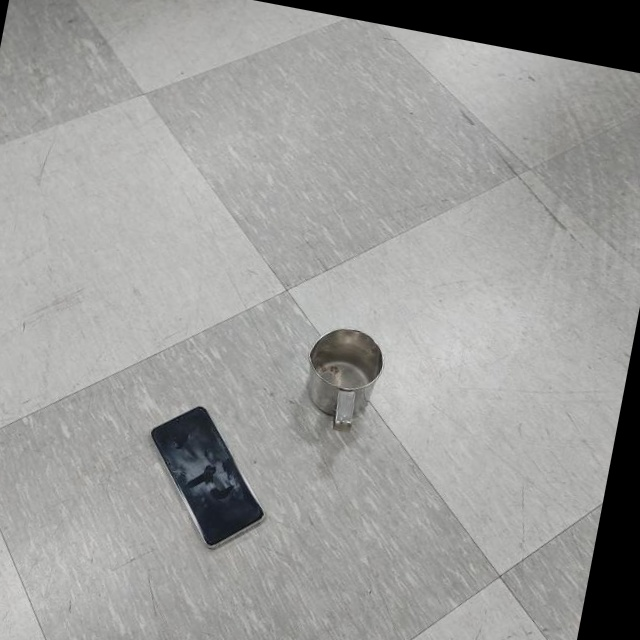cup: (295, 318, 390, 437)
phone: (129, 397, 284, 561)
